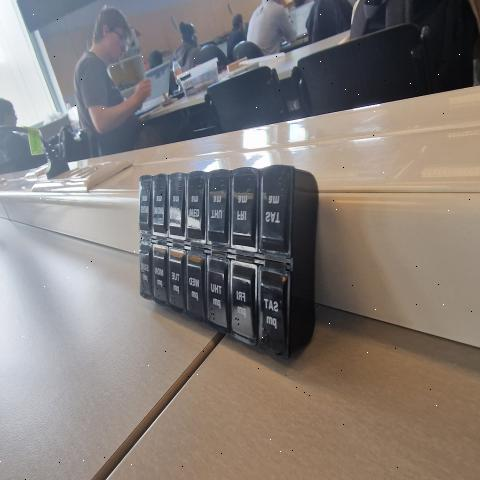PillBox: (112, 155, 339, 363)
